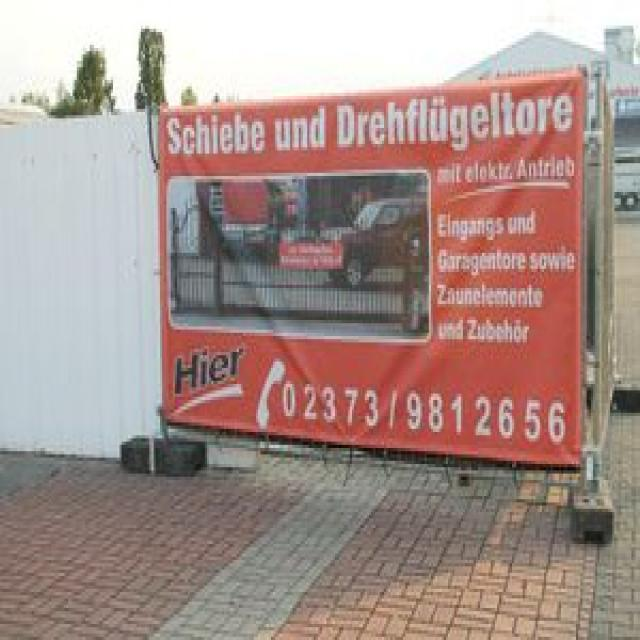Werbetafel frei: (160, 67, 604, 477)
